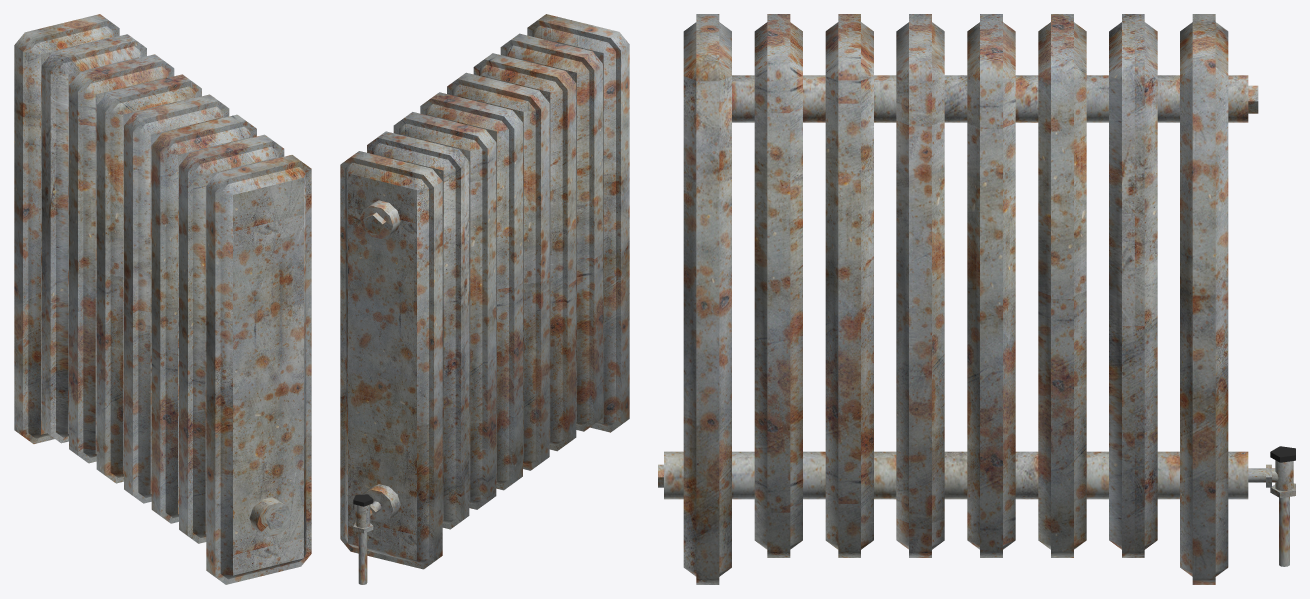
Rendered from radiator_01.FBX.
3 renders of one model, left to right at view 1: azimuth 30°, elevation 25°; view 2: azimuth 150°, elevation 25°; view 3: azimuth 270°, elevation 25°, orthographic. The views are drawn at different scales.
Parts seen in each view (by area): view 1: radiator_01; view 2: radiator_01; view 3: radiator_01.
Boxes of the visible parts, x1,y1,x2,y2 form: radiator_01: [14, 14, 311, 584]; radiator_01: [340, 14, 629, 584]; radiator_01: [658, 14, 1295, 584].
Bounding box in the file's own units: 0.2133 × 0.8635 × 0.9456.
